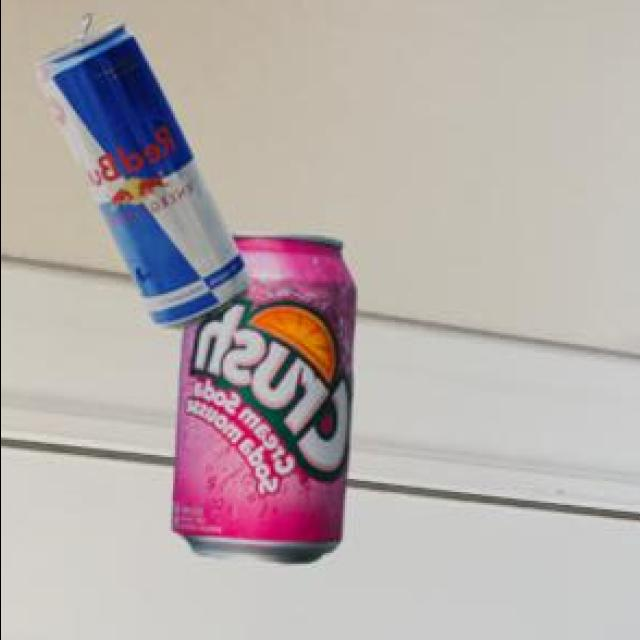logam: (32, 11, 245, 325), (169, 231, 352, 558)
